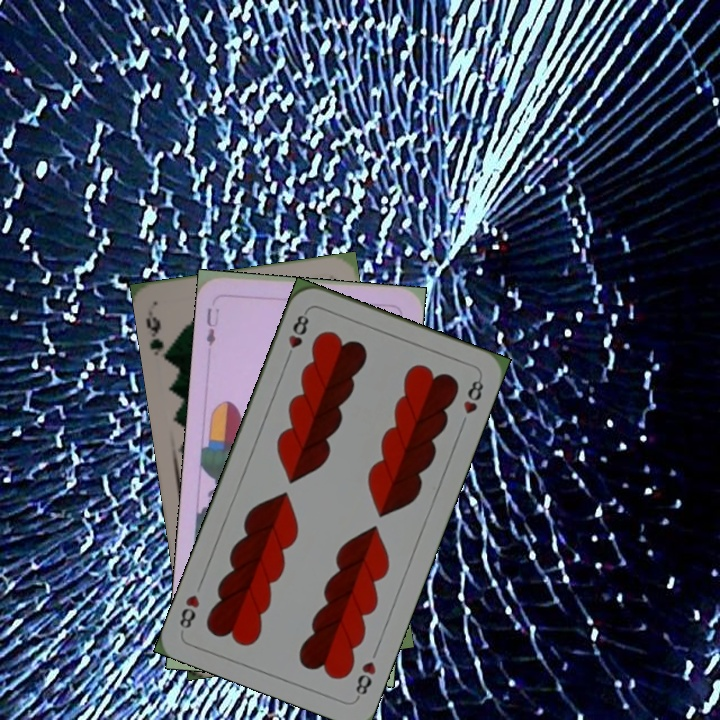EU: (202, 304, 222, 349)
G9: (142, 313, 173, 364)
H8: (282, 307, 312, 364), (351, 657, 379, 702)
